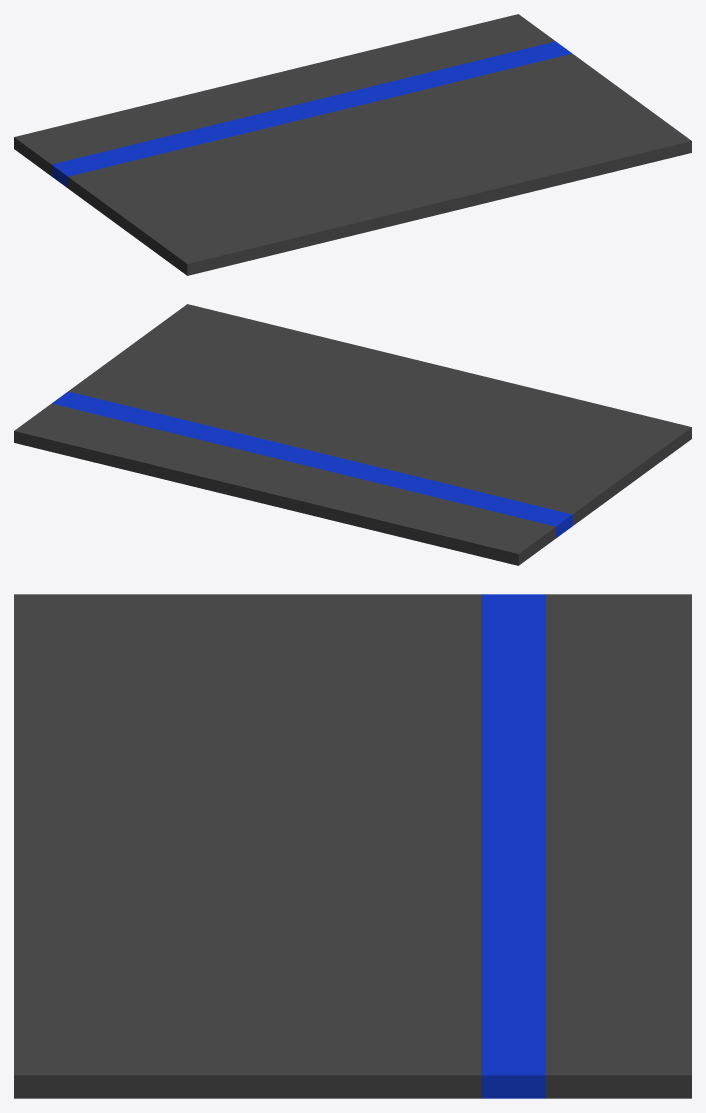
The model's file is ACTIVE_KeyCard.FBX.
The picture shows the model from 3 angles, top to bottom: view 1: azimuth 30°, elevation 25°; view 2: azimuth 150°, elevation 25°; view 3: azimuth 270°, elevation 25°; orthographic projection. The views are drawn at different scales.
Parts seen in each view (by area): view 1: Box001; view 2: Box001; view 3: Box001.
Boxes of the visible parts, left/top/right/bottom form: Box001: left=14, top=14, right=691, bottom=275; Box001: left=14, top=304, right=691, bottom=565; Box001: left=14, top=594, right=691, bottom=1098.
Bounding box in the file's own units: 0.089 × 0.002 × 0.053.
